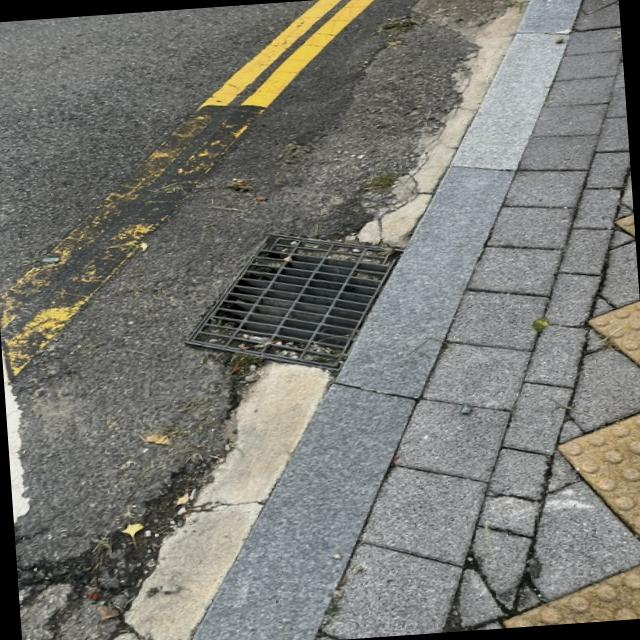drain_area: (226, 256, 390, 350)
drain_full: (190, 234, 404, 369)
